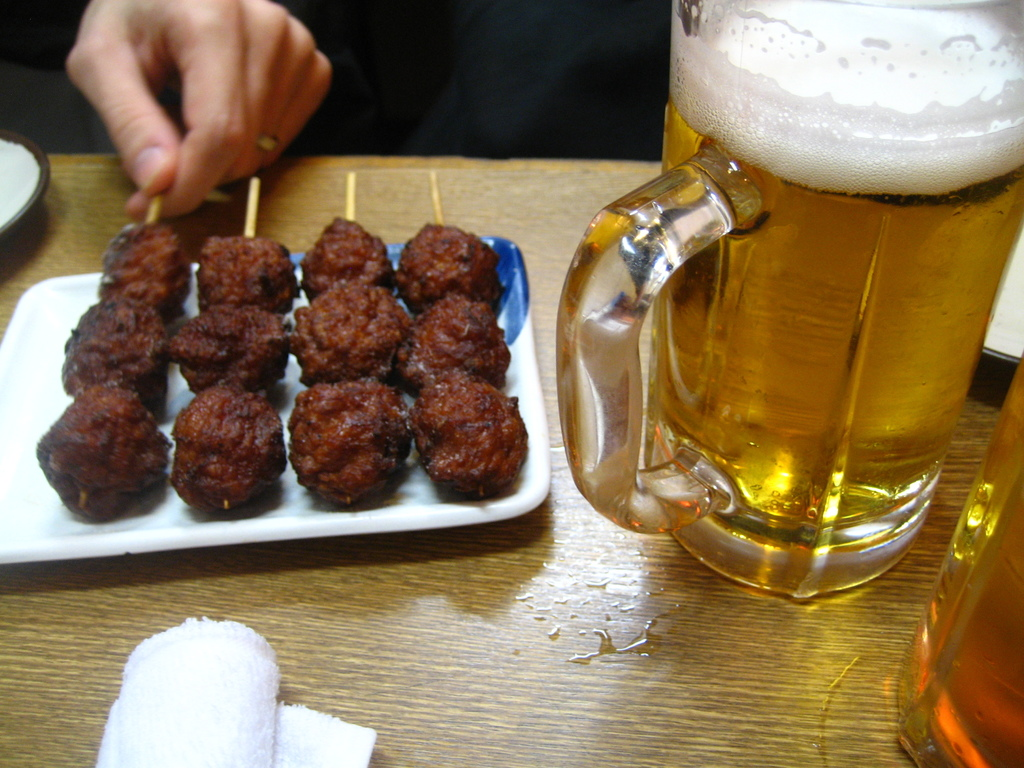Beer: (645, 96, 1023, 529)
